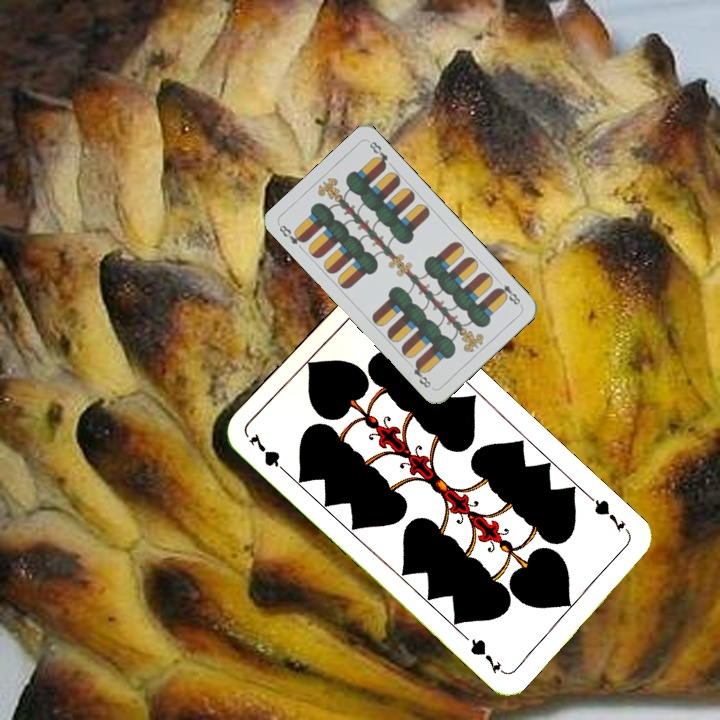E8: (492, 280, 524, 308), (275, 221, 309, 247)
G7: (244, 429, 292, 478), (585, 492, 633, 537)
